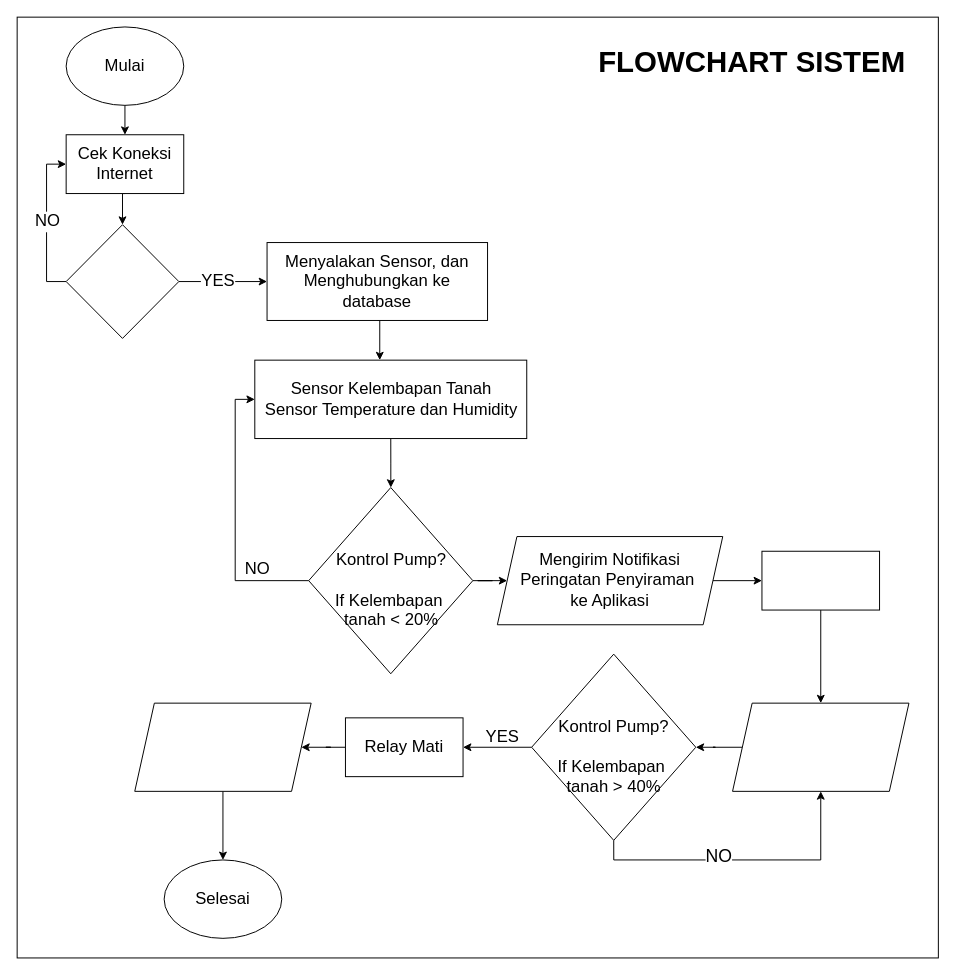
The diagram is 956 pixels wide and 975 high, and some of its shapes have lost their labels. Here are the shapes that lost their labels. From the top down, the centre of each, then its label:
At pixel 122 281: "Internet Terkoneksi?".
At pixel 820 580: "Relay Aktif".
At pixel 222 746: "Tanah Basah, Pompa Air Matii".
At pixel 820 746: "Tanah Kering, Pompa Air menyala".
